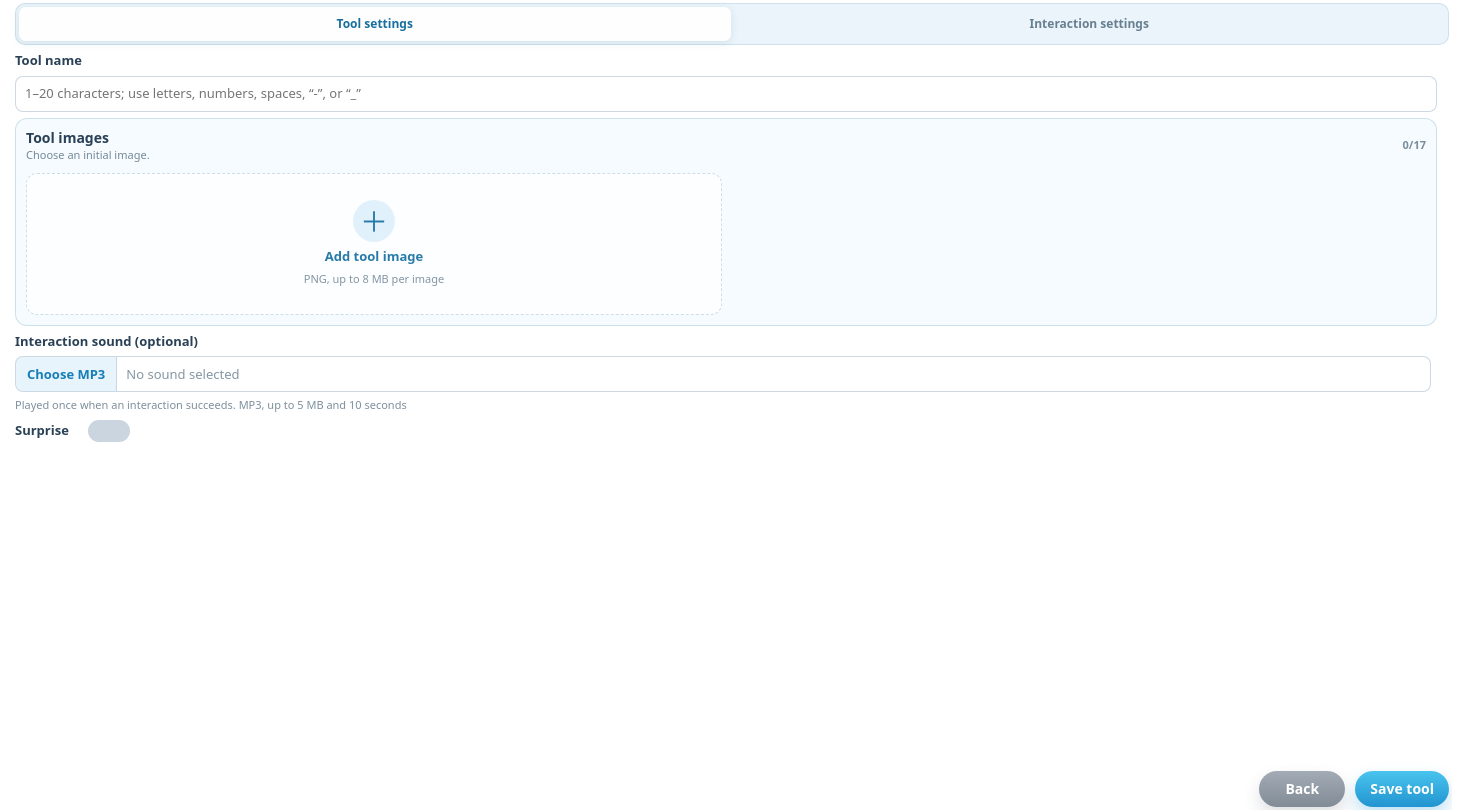
Test: AvatarToolCreatePage image references and v3 conversion › rejects a tool name already used by a built-in or another custom tool
Type "  hammer  " into the field labelled "Tool name" at (726, 94), box x1=15 y1=76 x2=1437 y2=112
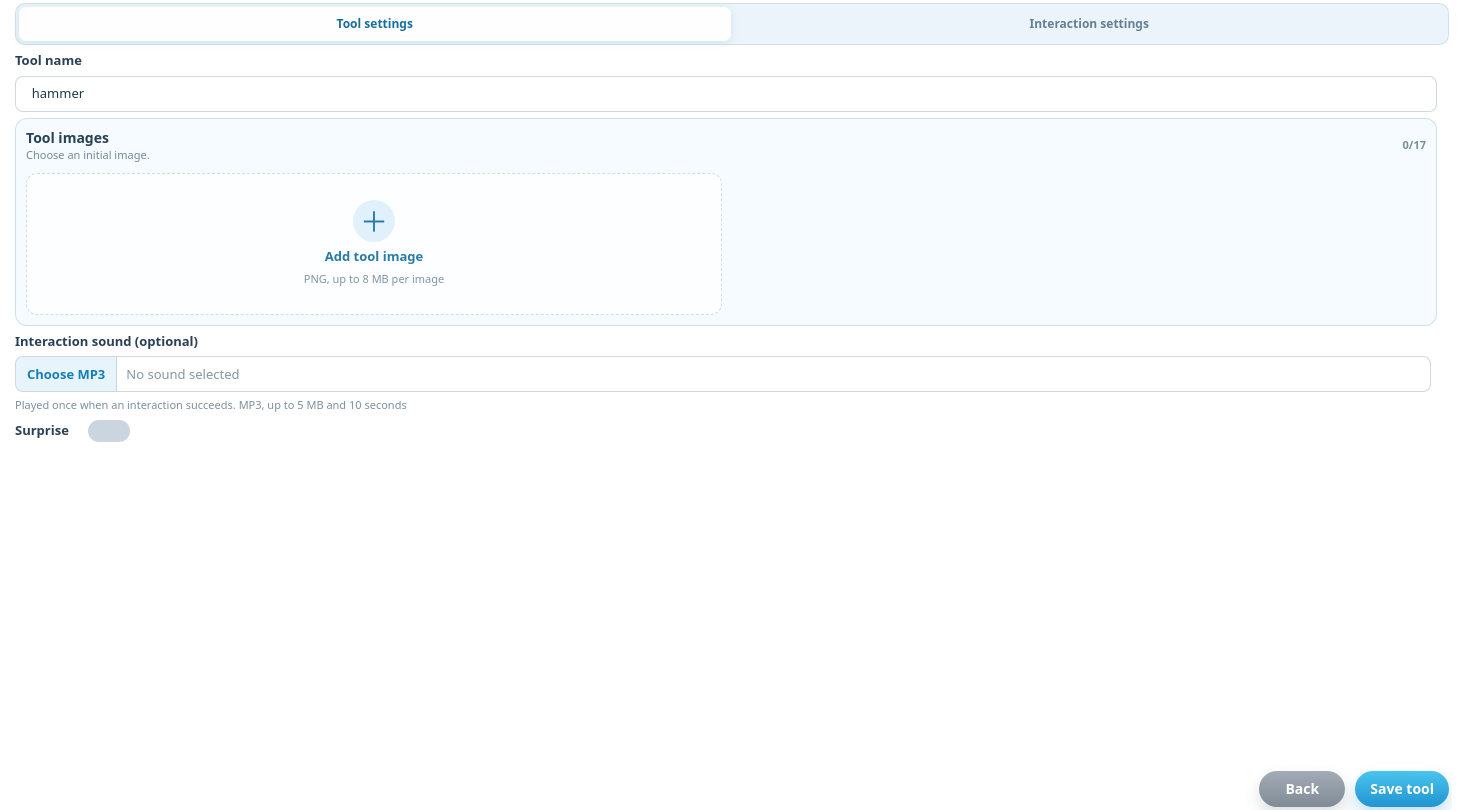
Click the button "Save tool" at (1402, 789), box x1=1355 y1=771 x2=1449 y2=807
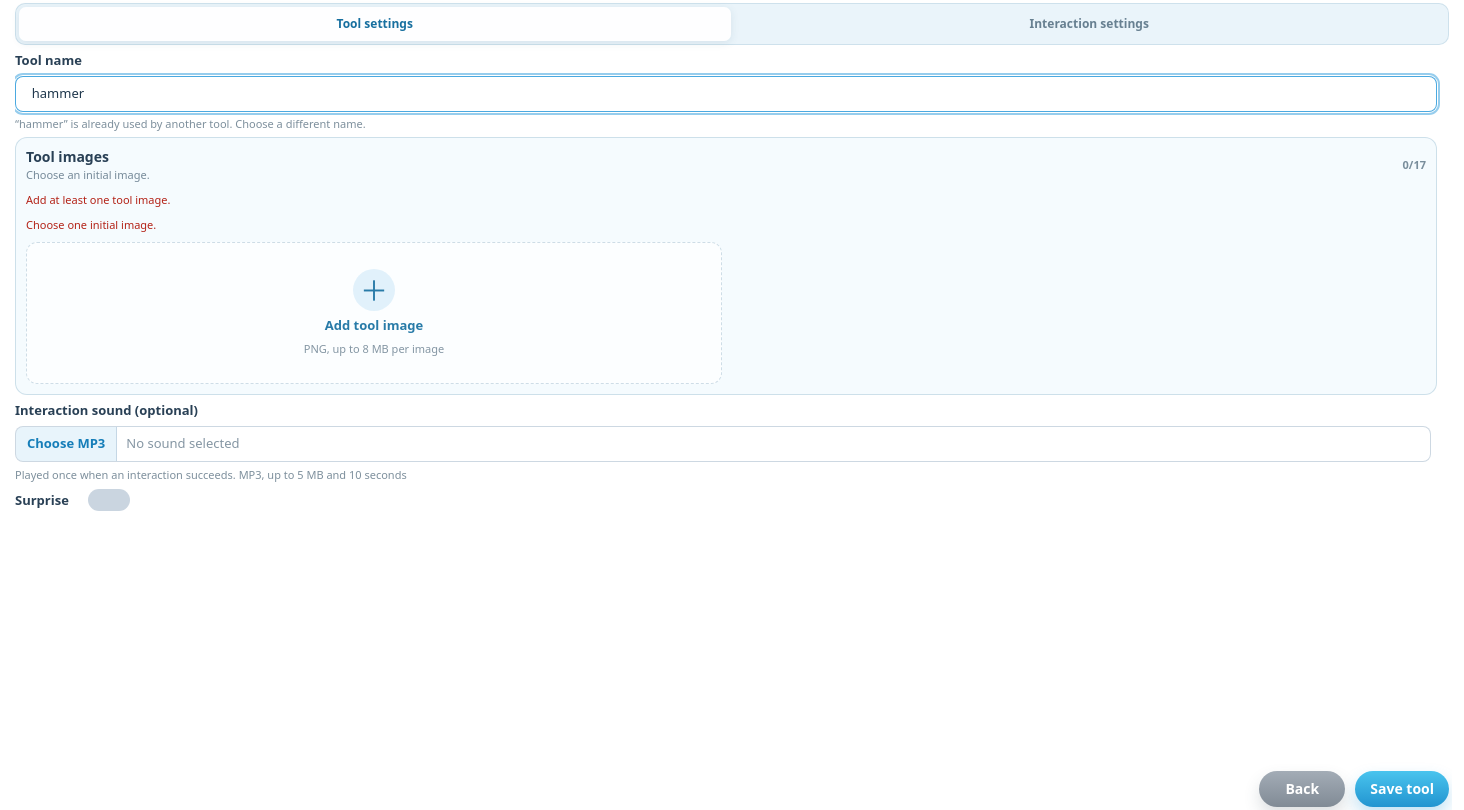
Expected: the text "“hammer” is already used by another tool. Choose a different name." is shown, x1=15 y1=116 x2=366 y2=130
